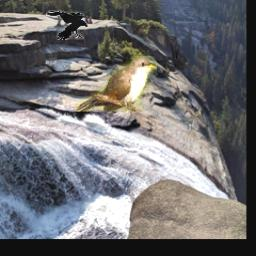Crow: (47, 10, 89, 40)
Cuckoo: (76, 56, 158, 112)
